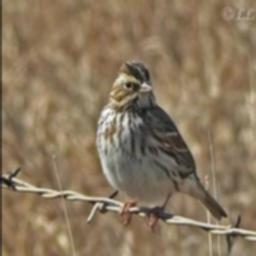Sparrow: (91, 58, 229, 232)
